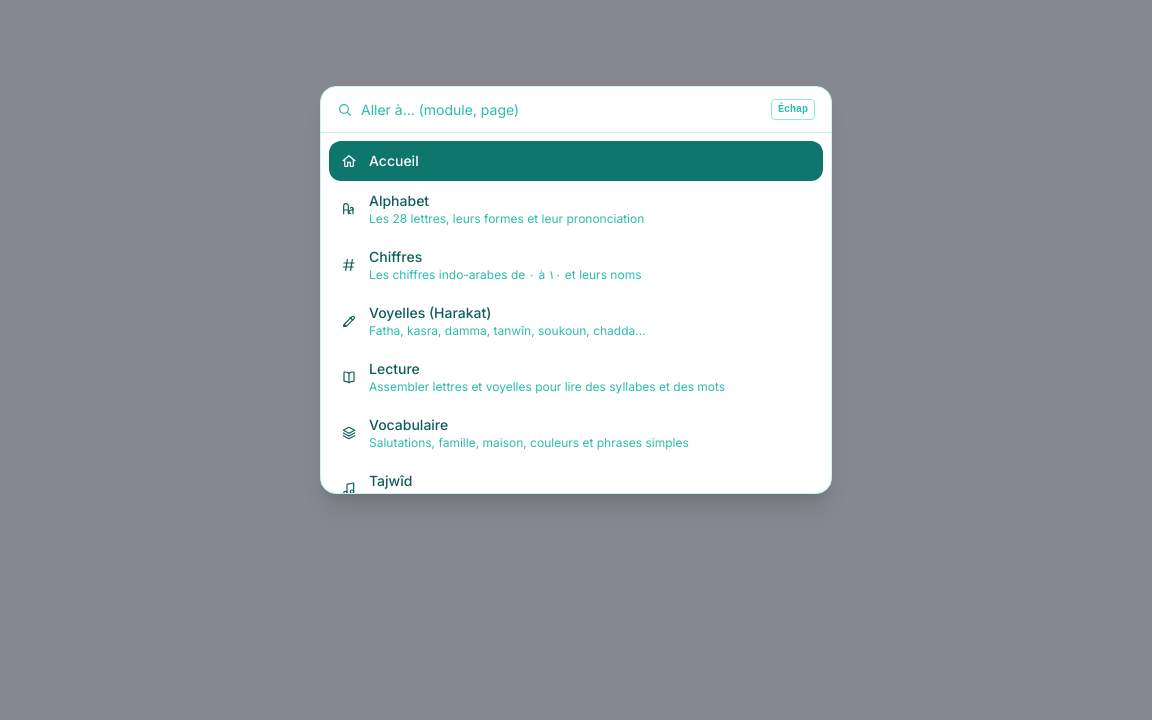
CommandPalette › trouve un nom d'Allah par sa signification
The width and height of the screenshot is (1152, 720).
Type "Créateur" into the field with placeholder "Aller à… (module, page)".
click(562, 110); type("Créateur")  # box [361,100,763,120]
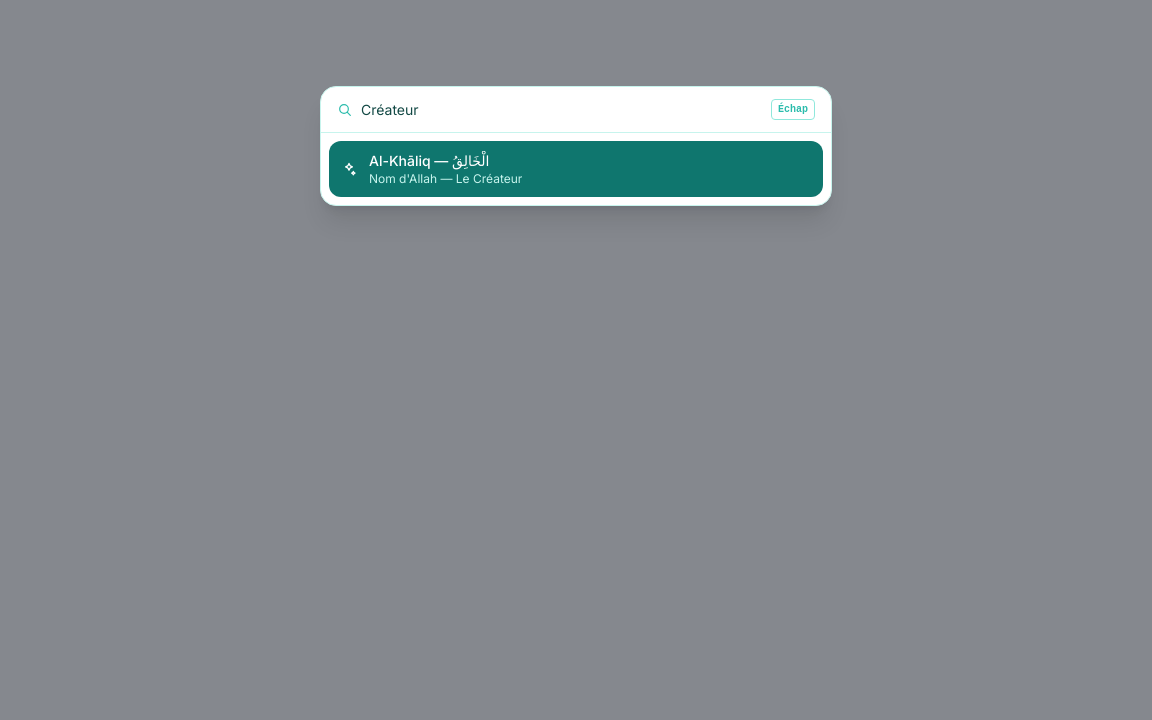
Expected: the text "Nom d'Allah — Le Créateur" is shown, [369,171,522,186]
